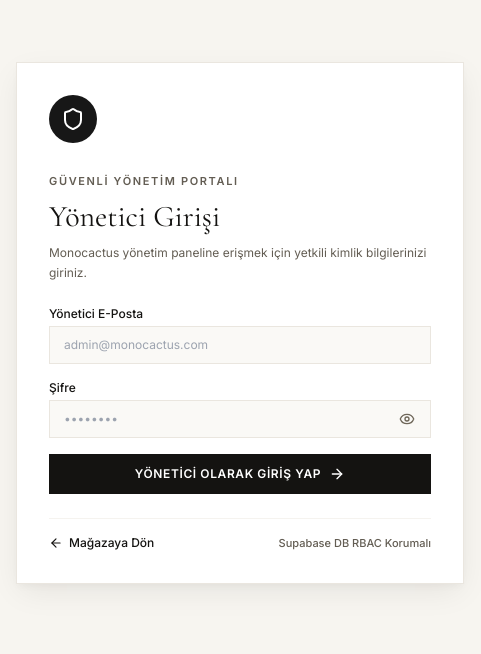
Test: Admin Guard & UI Components (Phase 2.2 RBAC Integration) › AdminLoginPage Component › displays error feedback when login fails
In the field with placeholder "admin@monocactus.com": (240, 345) [49,326,431,364], type "notadmin@example.com"
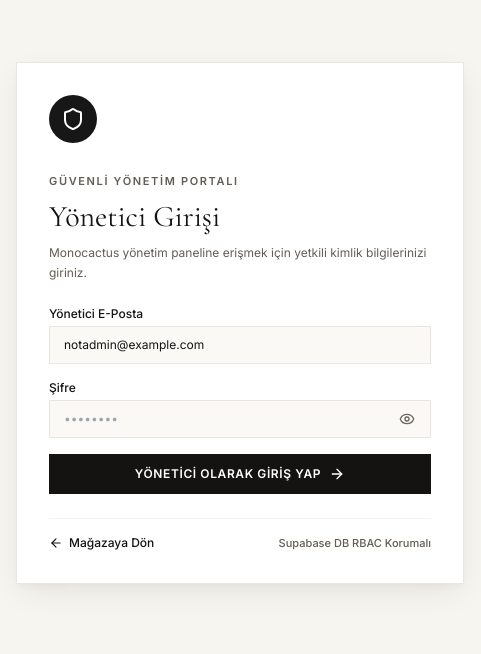
In the password field with placeholder "••••••••": (240, 419) [49,400,431,438], type "SomePass"
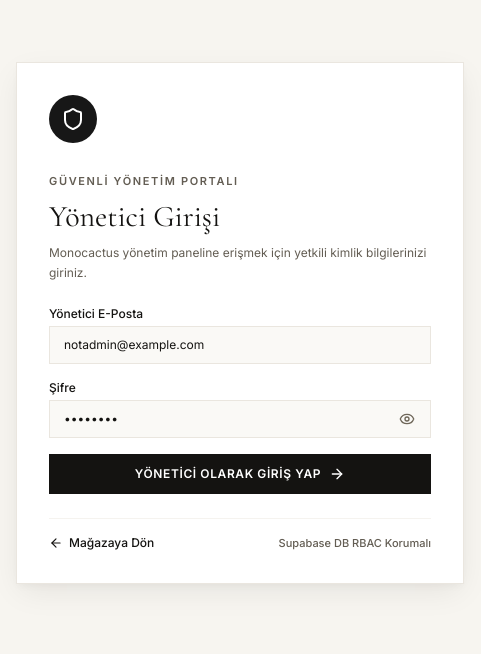
Click the button "Yönetici Olarak Giriş Yap": (240, 474) [49,454,431,494]
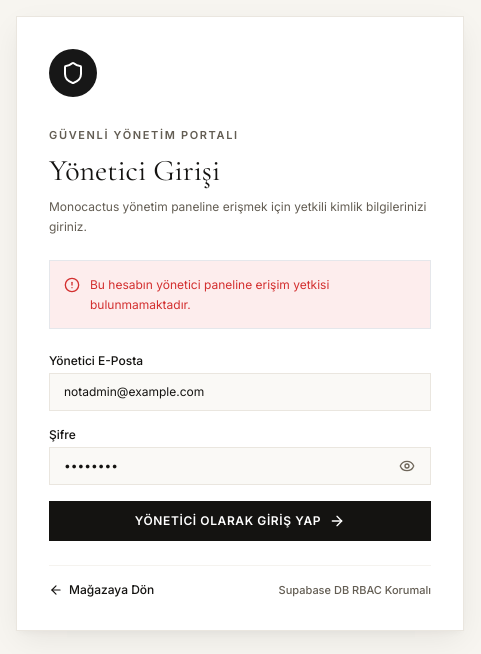
Result: the text "Bu hesabın yönetici paneline erişim yetkisi bulunmamaktadır." is shown at [90,276,329,311]
